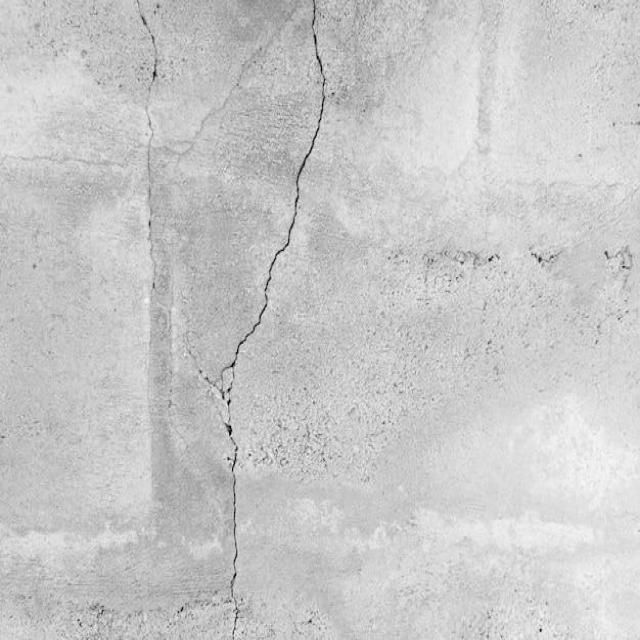Crack: (232, 0, 334, 378), (122, 1, 208, 378), (181, 378, 247, 640)
